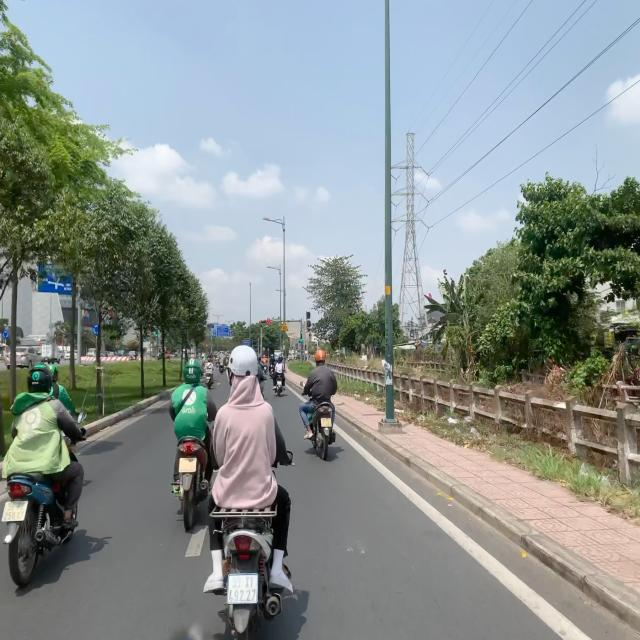Nguy hiem: (280, 322, 288, 332)
Vong xuyen: (3, 331, 9, 338)
